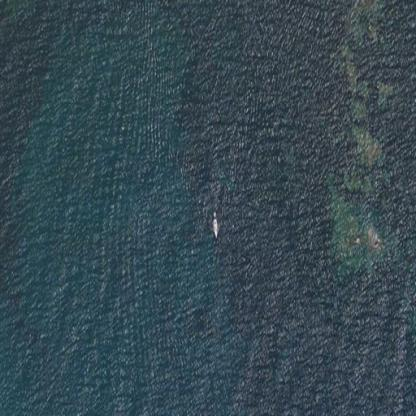ship: (210, 196, 218, 221)
